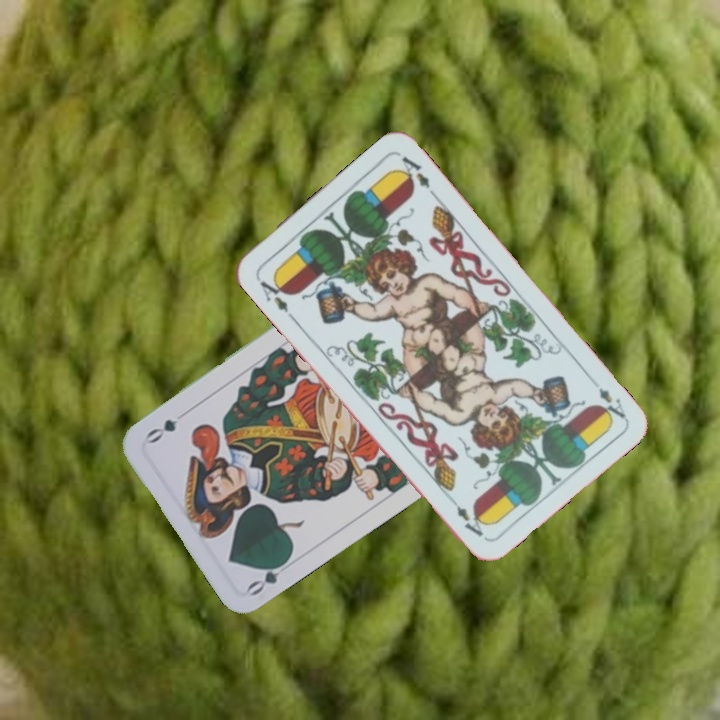EA: (253, 272, 297, 322), (594, 383, 628, 426)
GO: (243, 553, 293, 599)
